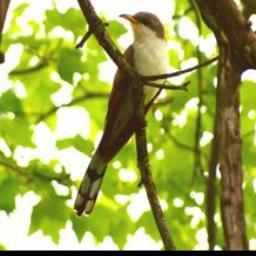Cuckoo: (72, 10, 169, 219)
